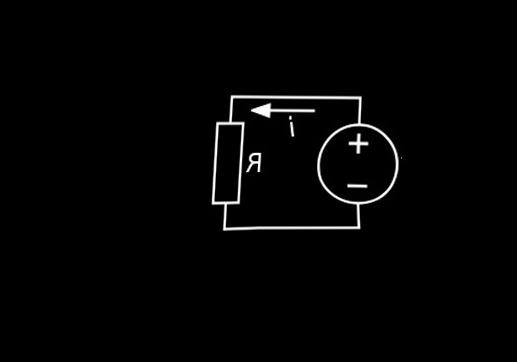Battery: (301, 116, 416, 210)
